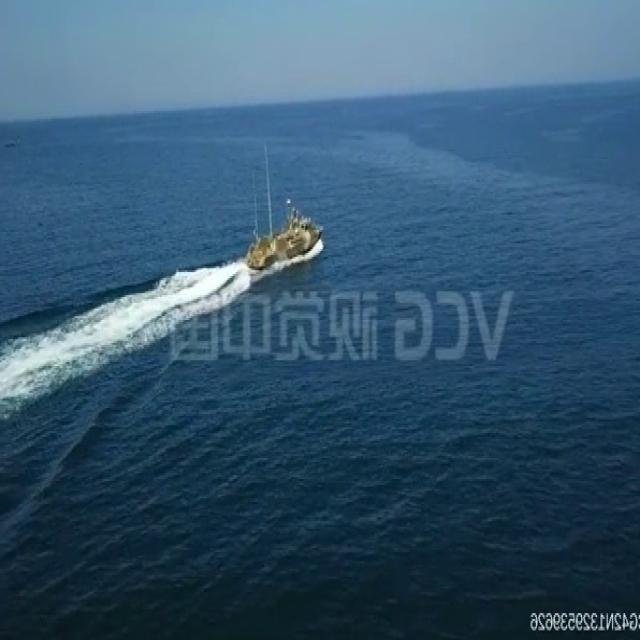houseboat: (239, 198, 328, 277)
